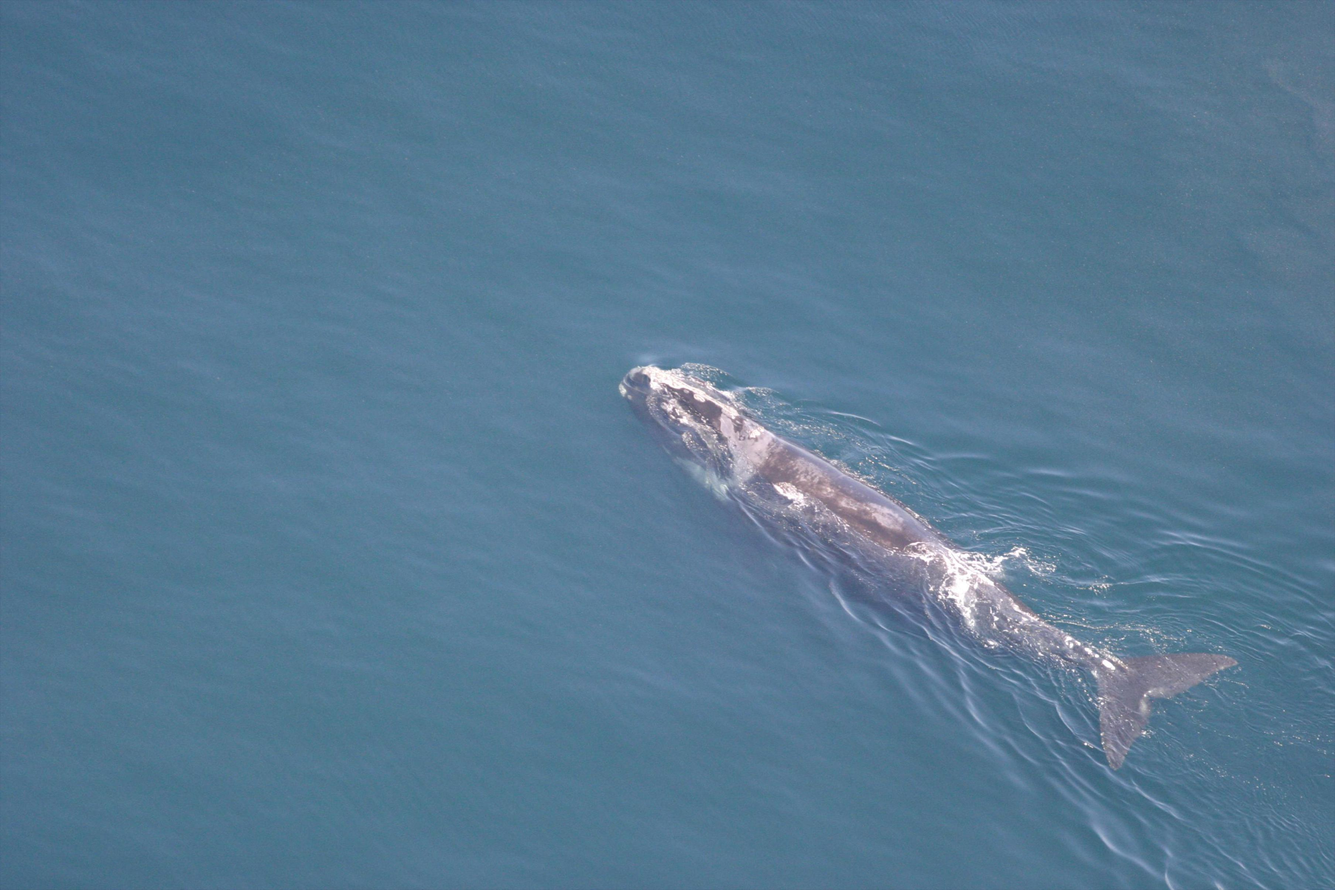whale: (612, 349, 1249, 787)
